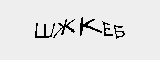Б: (112, 22, 129, 41)
Е: (100, 18, 113, 39)
Ж: (54, 15, 77, 39)
К: (78, 14, 103, 39)
Ш: (31, 20, 55, 42)
